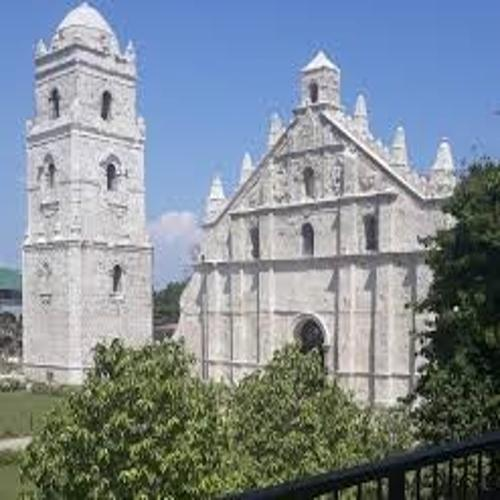Paoay Church: (15, 2, 483, 393)
